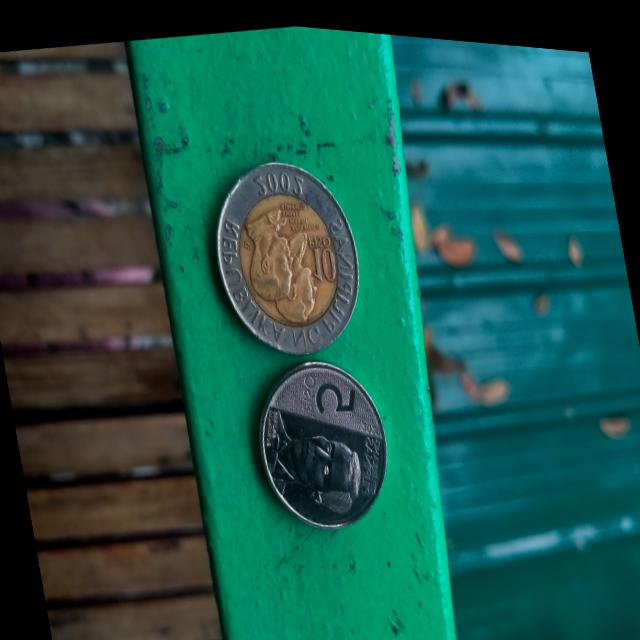10_Old_Front: (202, 143, 370, 356)
5_New_Front: (248, 350, 394, 532)
